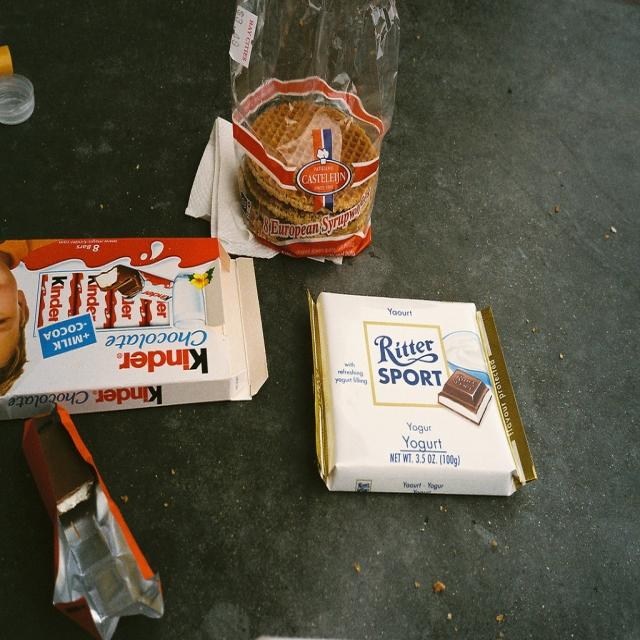rittersport: (362, 319, 456, 405)
